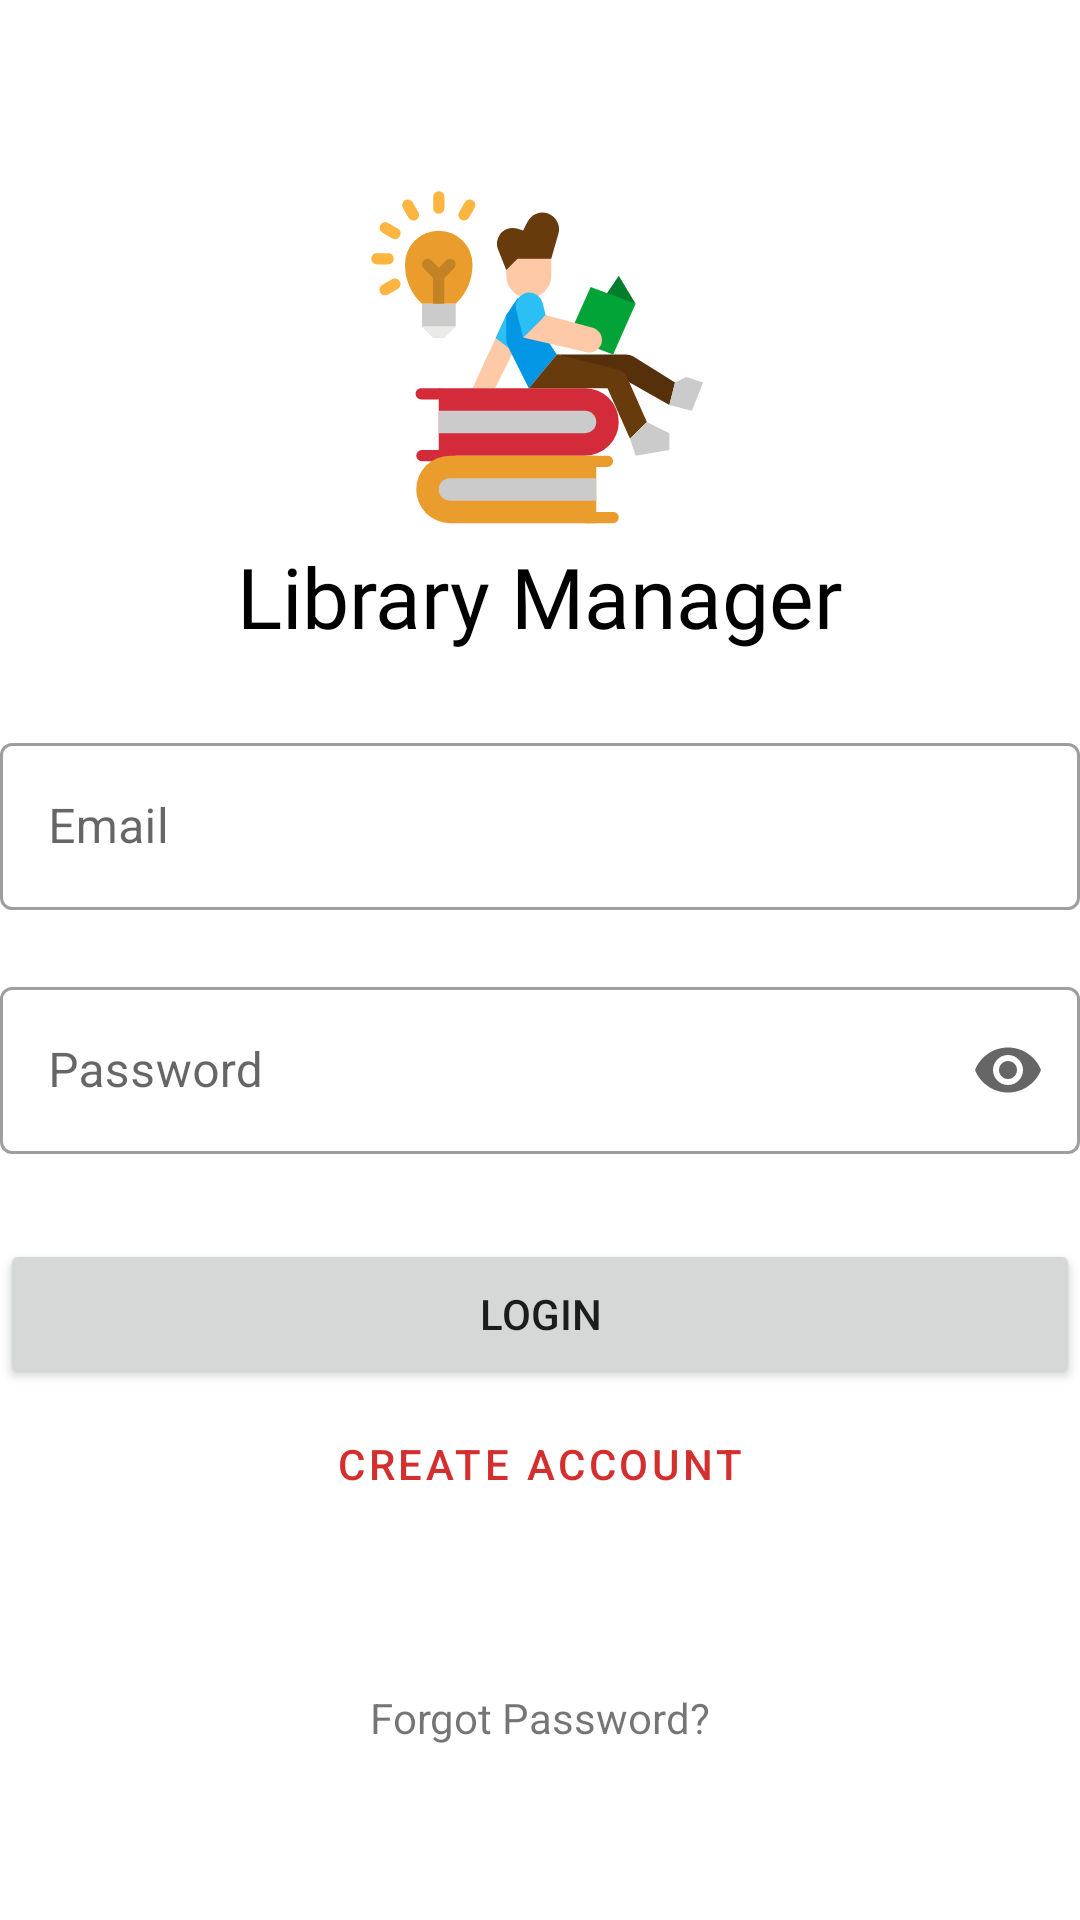

Screen size 1080 × 1920. Icon name, then its box in pixels as (x1, y1, x2, y2):
reading: (371, 191, 703, 524)
